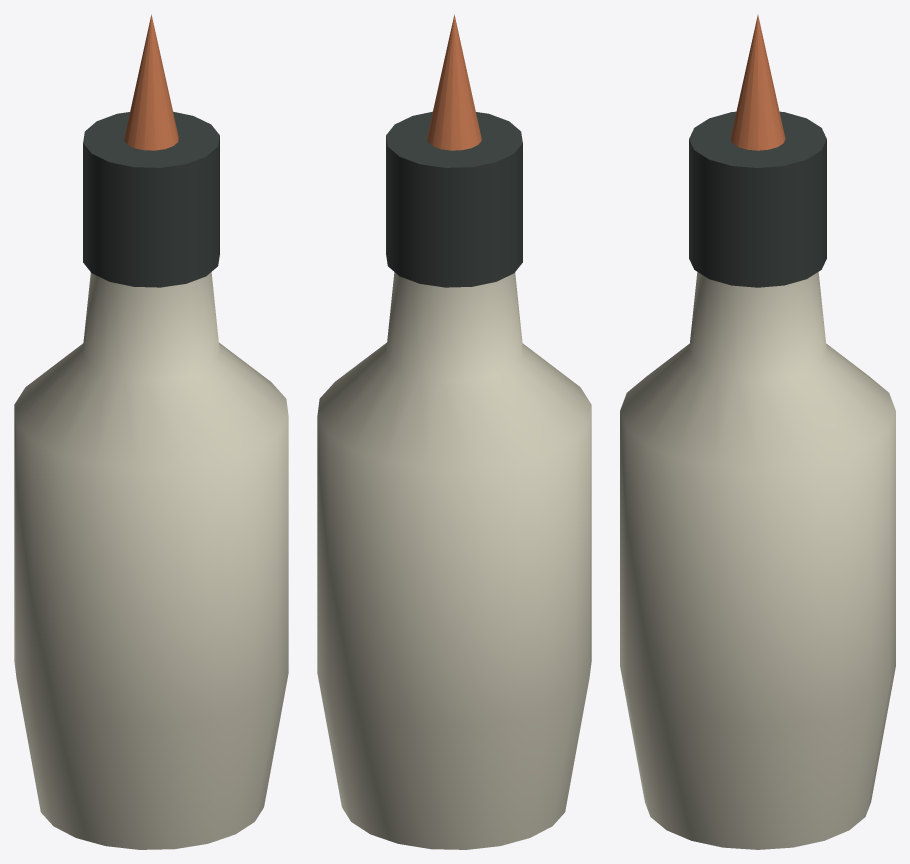
Rendered from scavengers-loot-library-glue-bottle-3536b2f2__2617.glb.
3 views of the same model, side by side, from view 1: azimuth 30°, elevation 25°; view 2: azimuth 150°, elevation 25°; view 3: azimuth 270°, elevation 25° (orthographic).
Parts seen in each view (by area): view 1: glue-bottle; view 2: glue-bottle; view 3: glue-bottle.
Boxes of the visible parts, x1=… form: glue-bottle: x1=14, y1=14, x2=288, y2=849; glue-bottle: x1=317, y1=14, x2=591, y2=849; glue-bottle: x1=620, y1=15, x2=895, y2=849.
Size of the model in its own units: 0.046 by 0.145 by 0.046.
